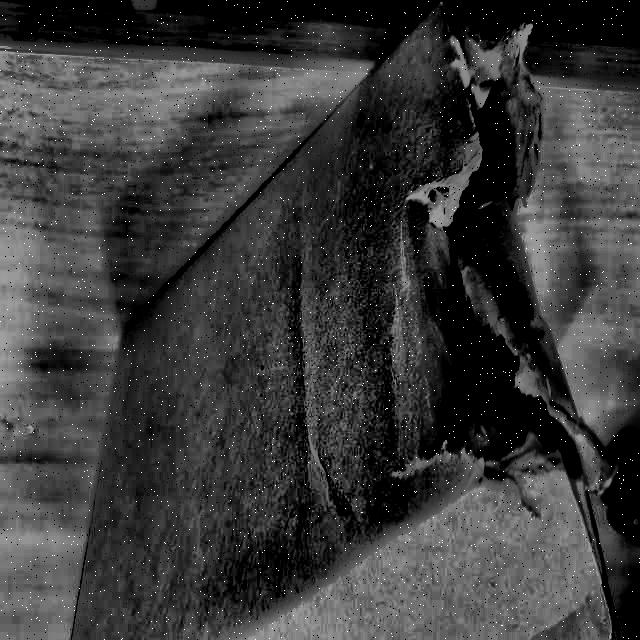box: (64, 16, 639, 640)
hole: (411, 12, 584, 527)
